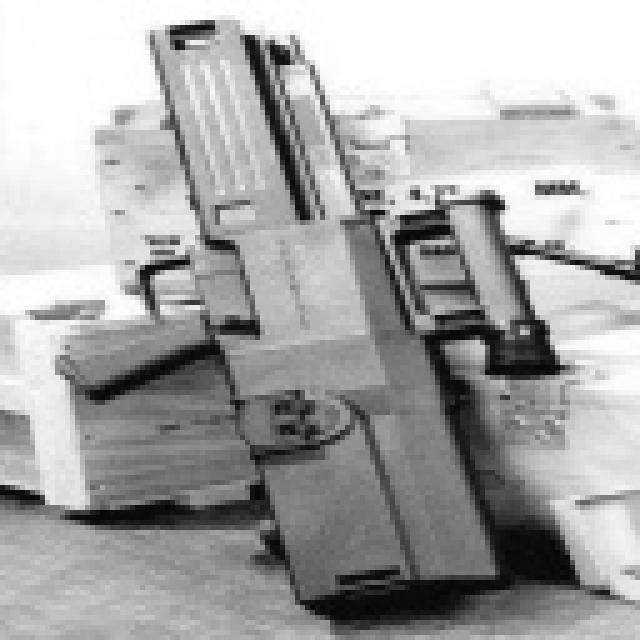Rifle: (44, 12, 591, 621)
